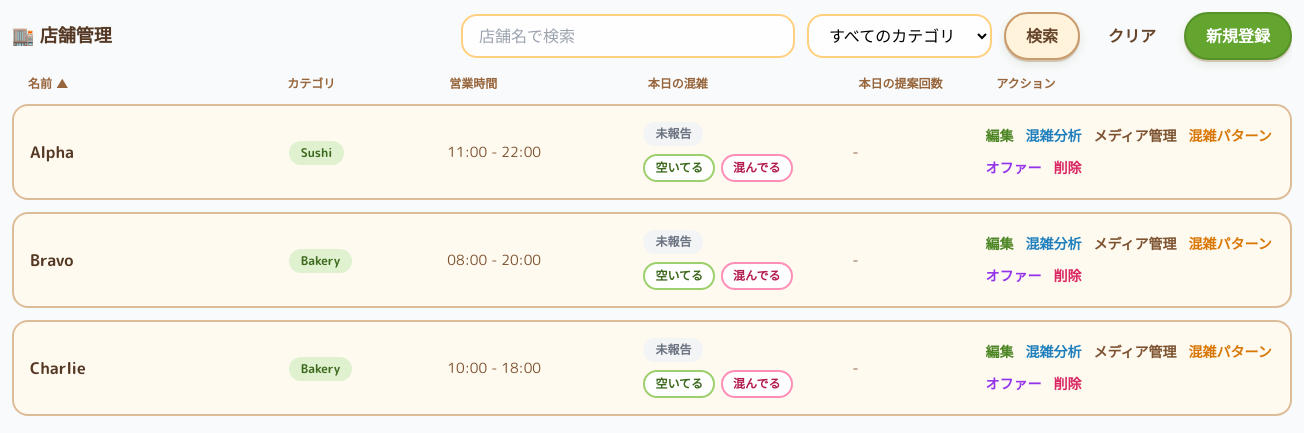
Test: StoreManagementPanel 検索・絞り込み・ソート › クリアボタンで検索条件と一覧表示が初期状態に戻る
Expected: the text "Charlie" is shown, [30, 357, 86, 379]
Type "al" into the field with placeholder "店舗名で検索".
click(628, 36); type("al")  # box [461, 14, 795, 58]
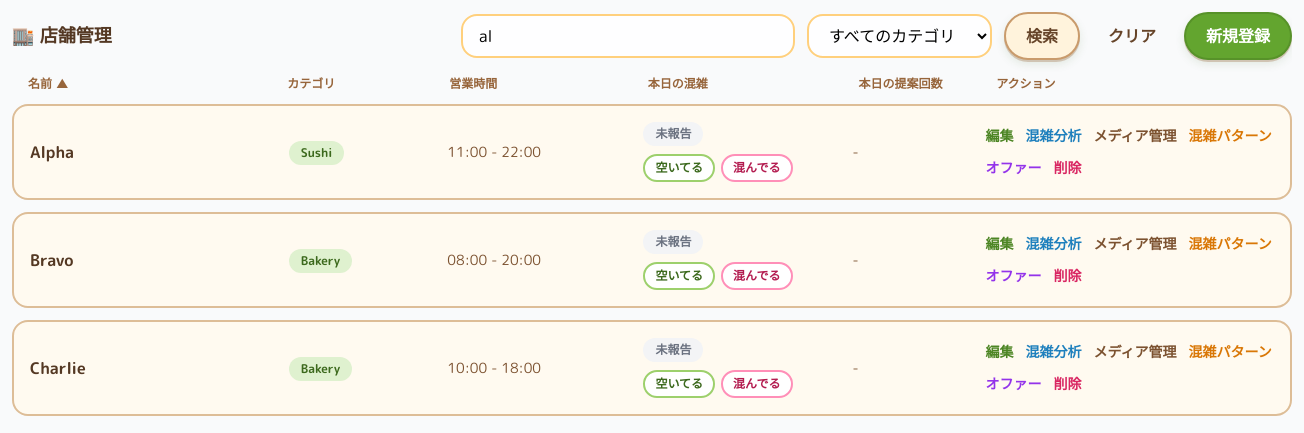
Click the button "検索".
click(1042, 36)  # box [1004, 12, 1080, 60]
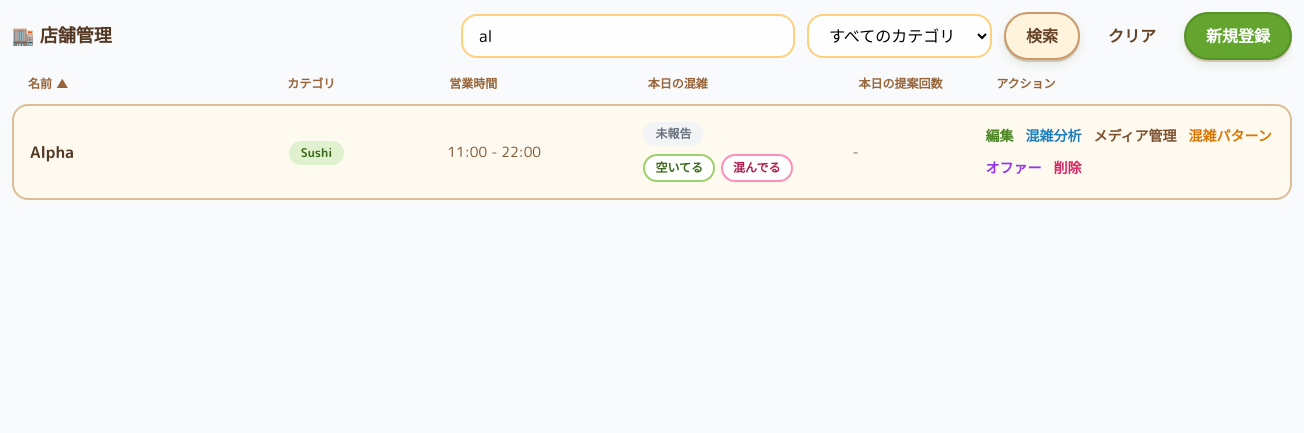
Expected: the text "Charlie" is gone
Click the button "クリア".
click(1132, 36)  # box [1092, 16, 1172, 56]
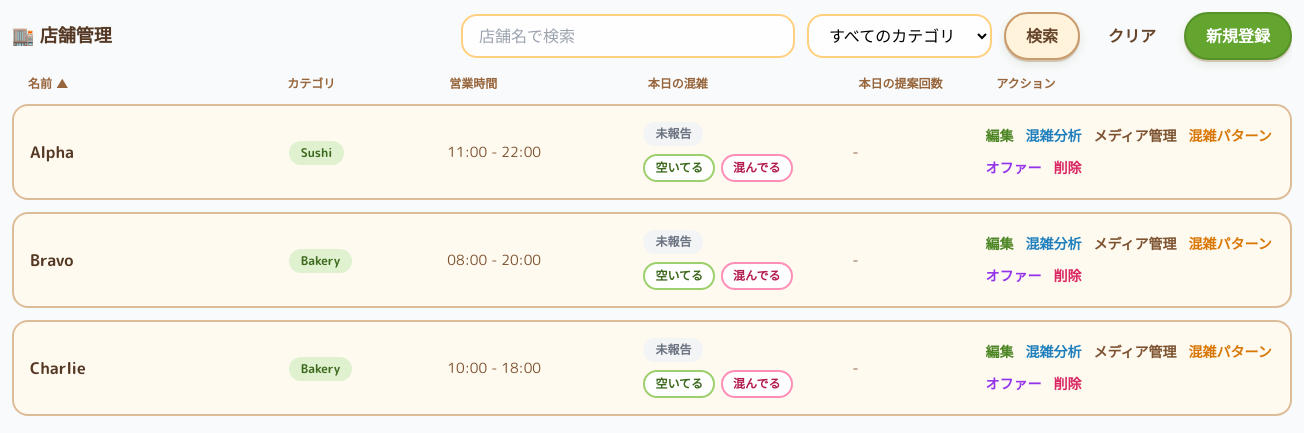
Expected: the field with placeholder "店舗名で検索" is empty, [461, 14, 795, 58]
Expected: the text "Charlie" is shown, [30, 357, 86, 379]
Expected: the text "Bravo" is shown, [30, 249, 73, 271]
